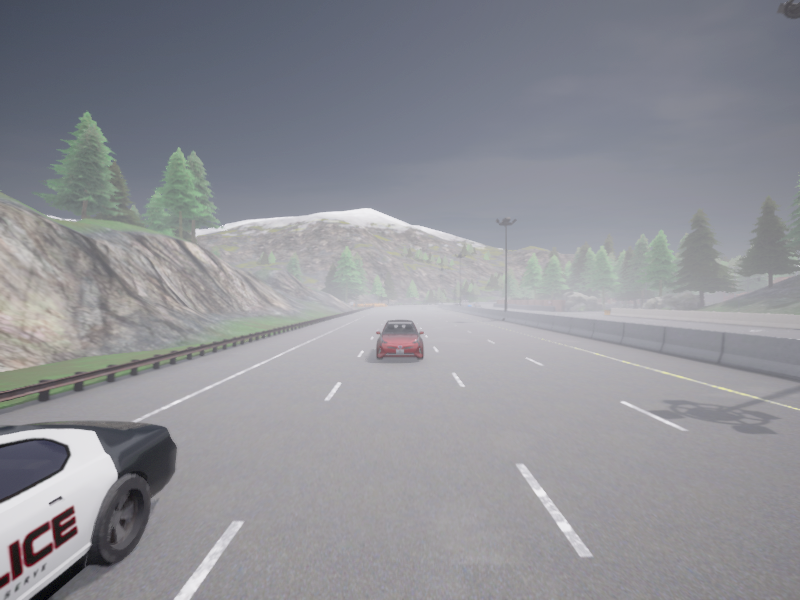vehicle: (0, 420, 176, 599), (376, 320, 423, 359), (473, 302, 480, 307), (462, 300, 468, 305), (467, 303, 471, 306), (452, 303, 458, 305)
